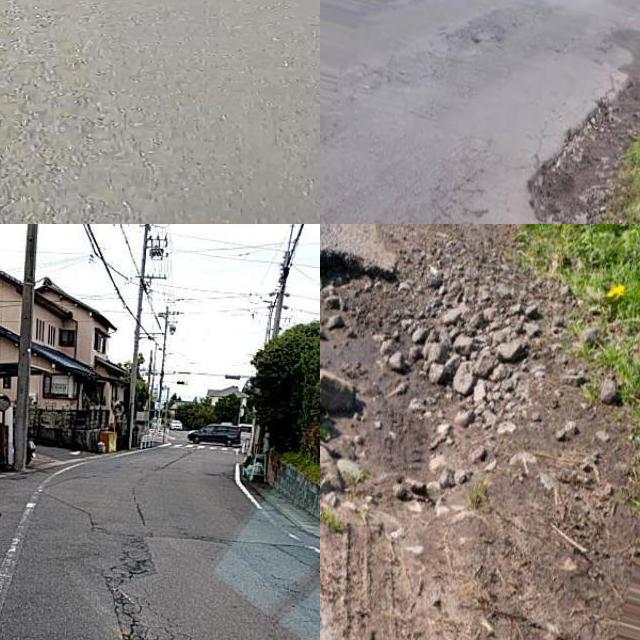Pinggir: (320, 245, 441, 612), (486, 33, 640, 224)
